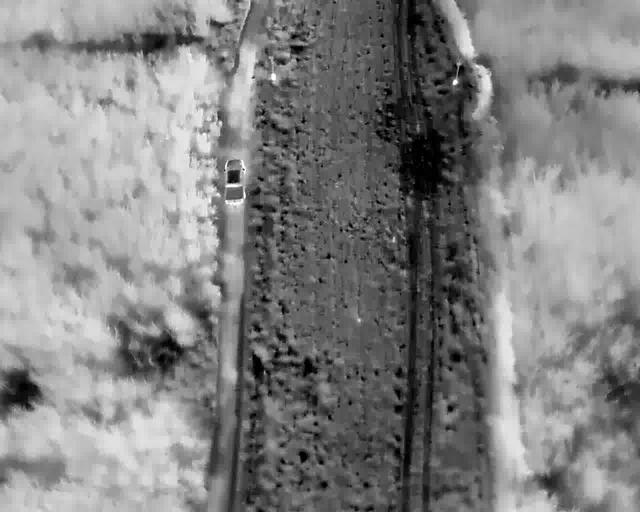car: (223, 159, 246, 203)
